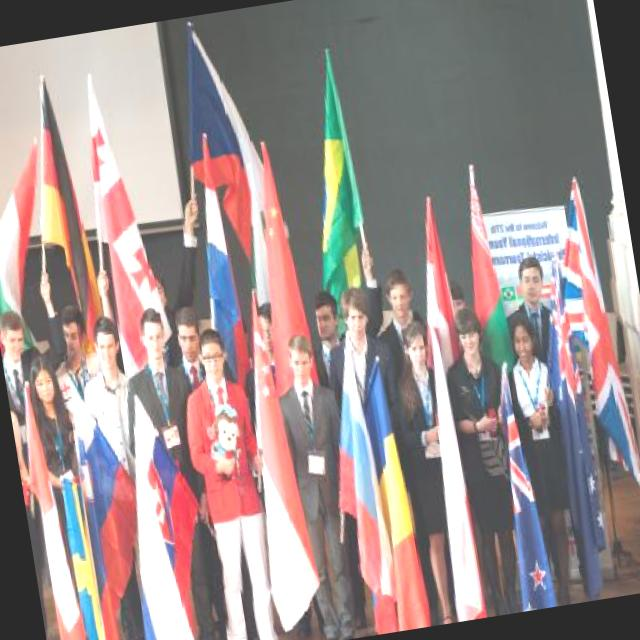Person: (167, 314, 300, 640), (309, 290, 429, 636), (122, 313, 239, 640), (412, 317, 535, 617), (68, 312, 175, 640), (272, 324, 382, 636), (14, 344, 125, 640), (388, 327, 477, 620), (504, 294, 590, 584)
